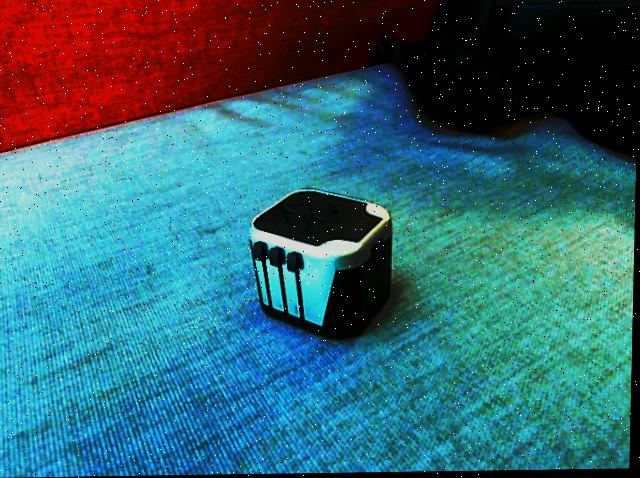adapter: (248, 187, 395, 341)
